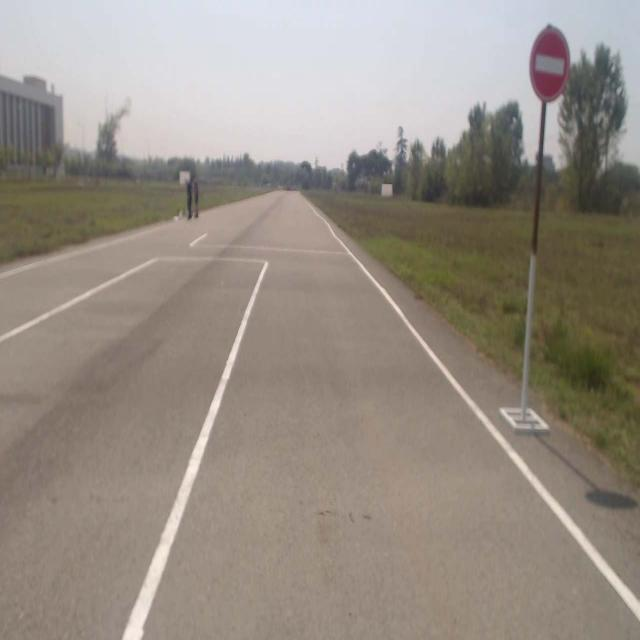girisyok: (528, 29, 569, 100)
